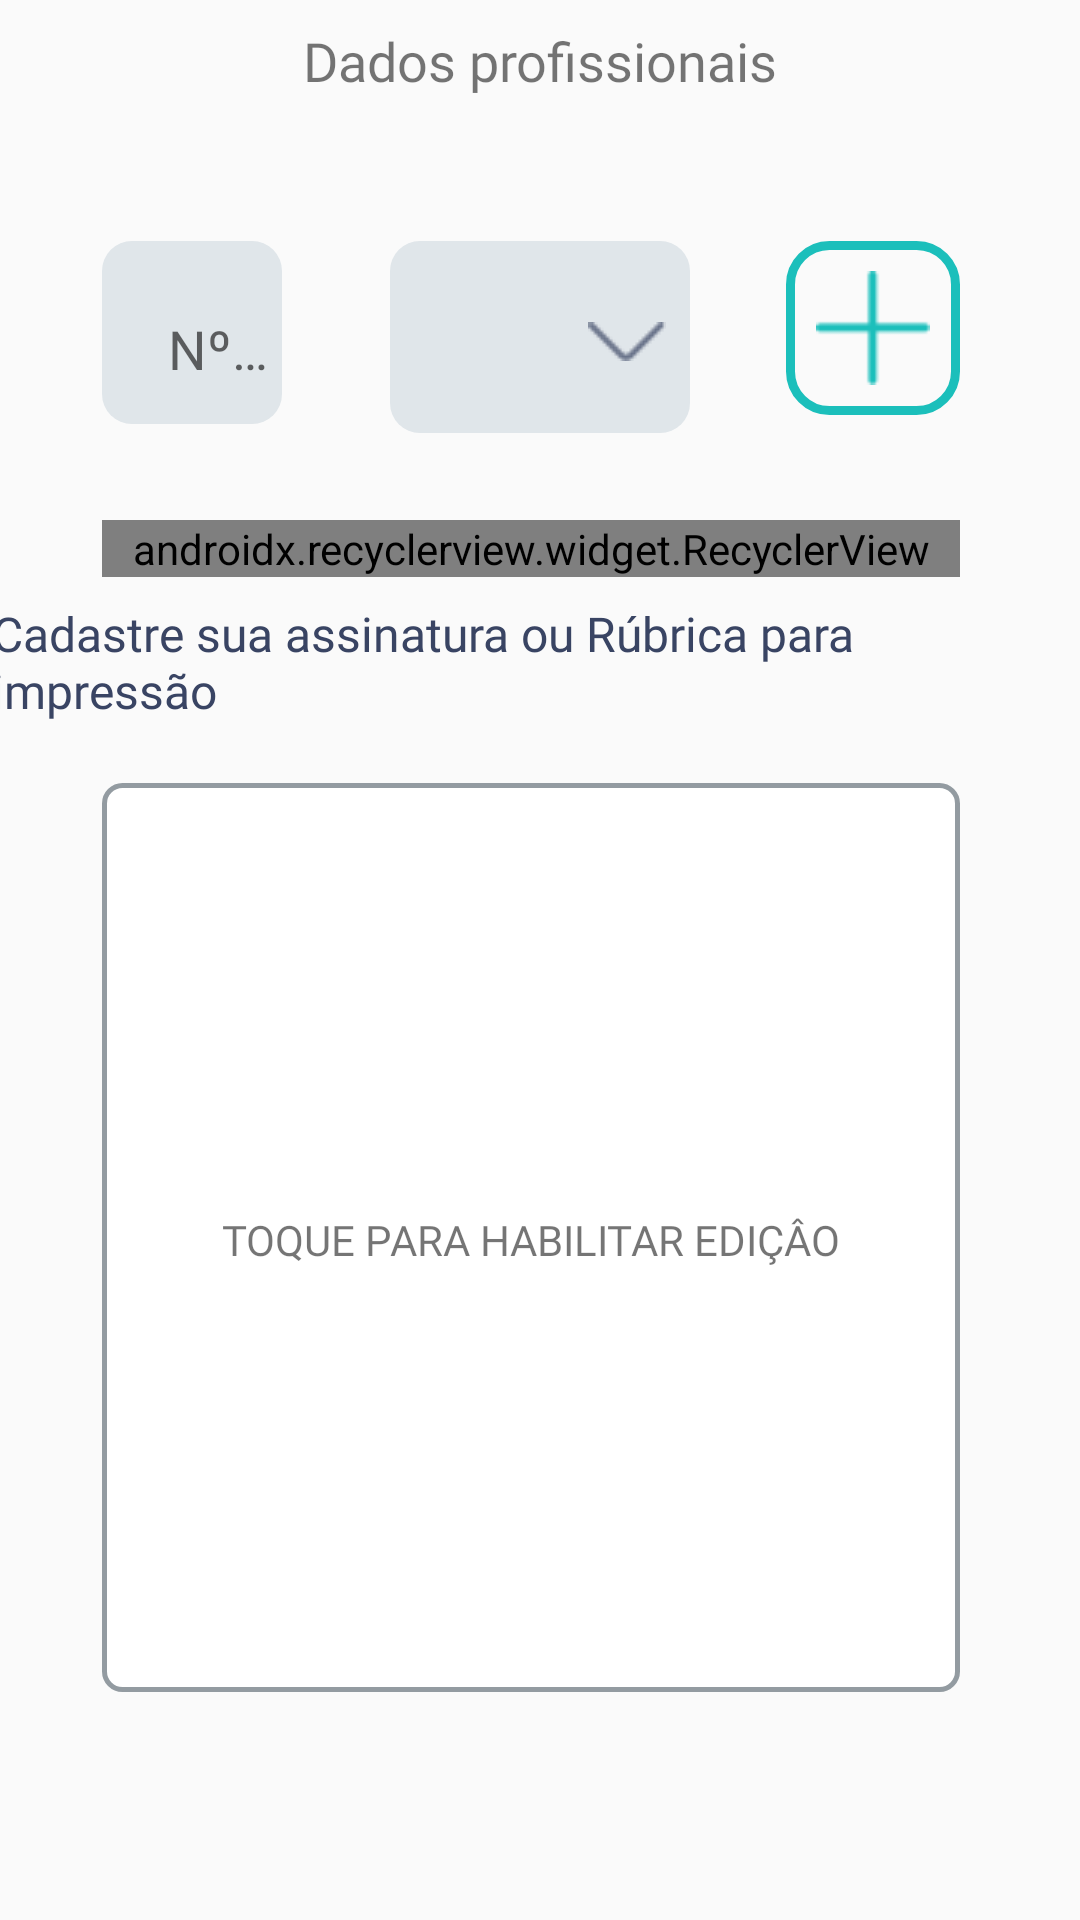

Point at icon controls on the screen. Image size 1080*1920, points as point (x, y).
add: point (873, 328)
